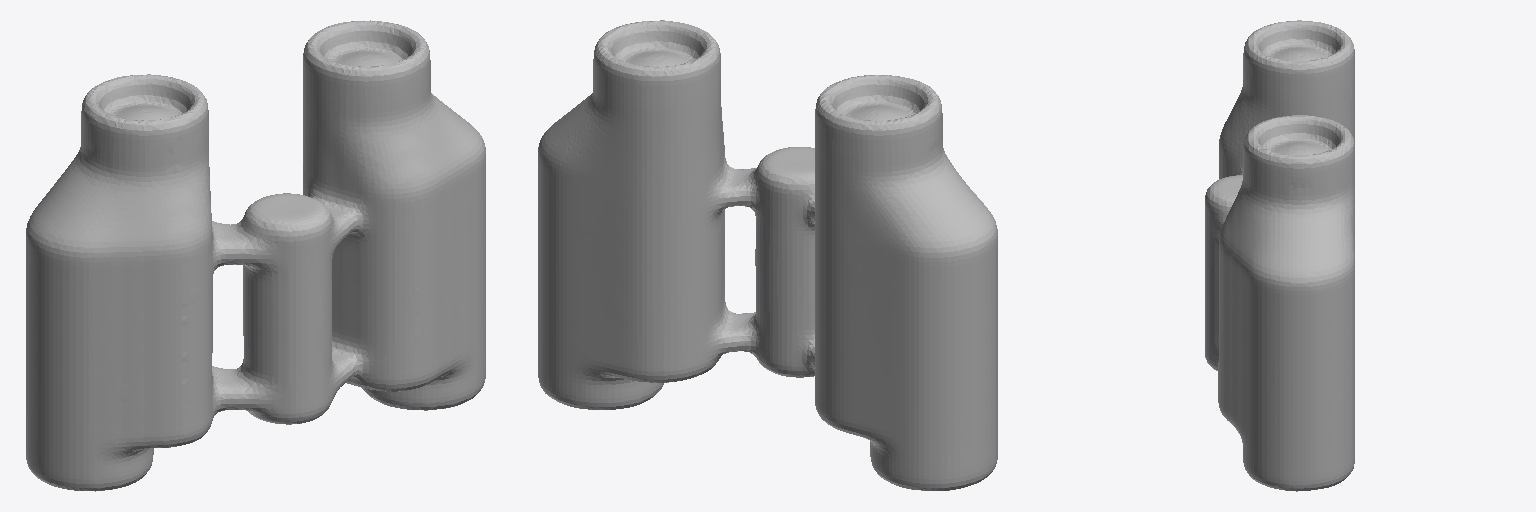
robot.urdf — root:
<robot name="root">
  <link name="link_001">
    <visual>
      <origin xyz="0 0 0" rpy="0 0 0"/>
      <geometry>
        <mesh filename="binoculars.obj" scale="1.5000E+00 1.5000E+00 1.5000E+00"/>
      </geometry>
      <material name="">
        <color rgba="7.50E-01 7.50E-01 7.50E-01 1"/>
      </material>
    </visual>
    <collision>
      <origin xyz="0 0 0" rpy="0 0 0"/>
      <geometry>
        <mesh filename="binoculars.obj" scale="1.5000E+00 1.5000E+00 1.5000E+00"/>
      </geometry>
    </collision>
    <inertial>
      <mass value="0.16"/> <!-- 质量：0.1kg -->
    </inertial>
  </link>
</robot>

--- Render facts (derived) ---
3 views of the same robot in one strip: view 1: azimuth 30°, elevation 25°; view 2: azimuth 150°, elevation 25°; view 3: azimuth 270°, elevation 25° (orthographic).
Robot: root — 1 links, 0 joints (none); root link link_001; default pose: every joint at zero.
Links seen in each view (by area): view 1: link_001; view 2: link_001; view 3: link_001.
Boxes of the visible links, <box> form: link_001: <box>26,20,485,491</box>; link_001: <box>538,20,997,490</box>; link_001: <box>1205,20,1354,491</box>.
Size in the robot's own frame: 0.2125 by 0.0716 by 0.1635 metres.
1 mesh visuals loaded from 1 distinct referenced files (1 OBJ).
